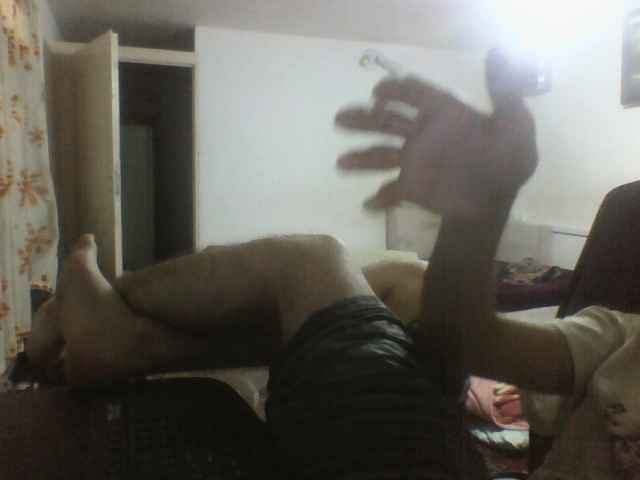taslim: (330, 45, 551, 227)
